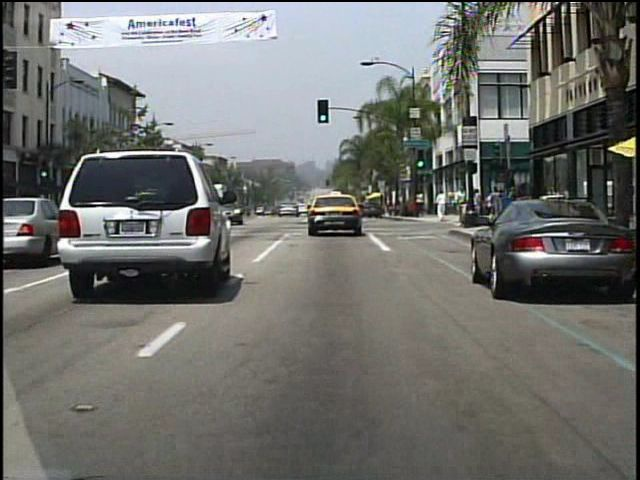person: (484, 187, 503, 227), (469, 188, 486, 227), (454, 186, 467, 227), (434, 189, 447, 222), (416, 191, 427, 217)
